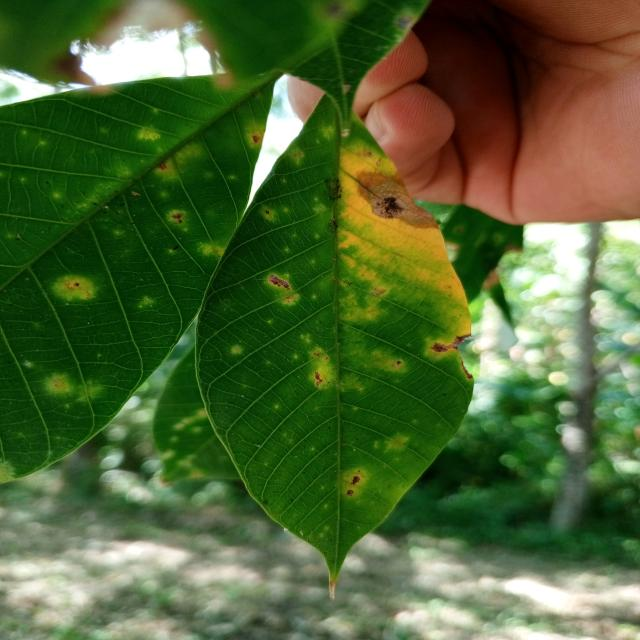Leaf-Blight: (355, 168, 438, 228)
